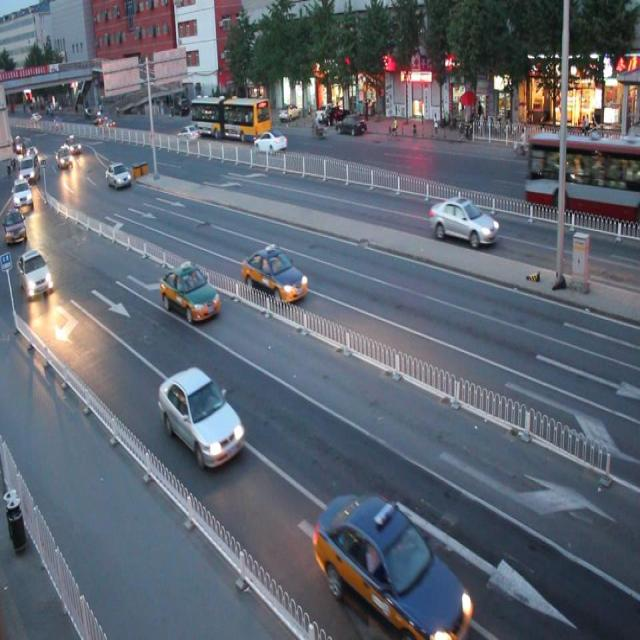car: (312, 488, 471, 640), (158, 365, 243, 465), (241, 242, 306, 303), (428, 192, 496, 250), (160, 260, 220, 324), (253, 129, 288, 155)
van: (526, 131, 640, 222), (191, 94, 271, 141)
